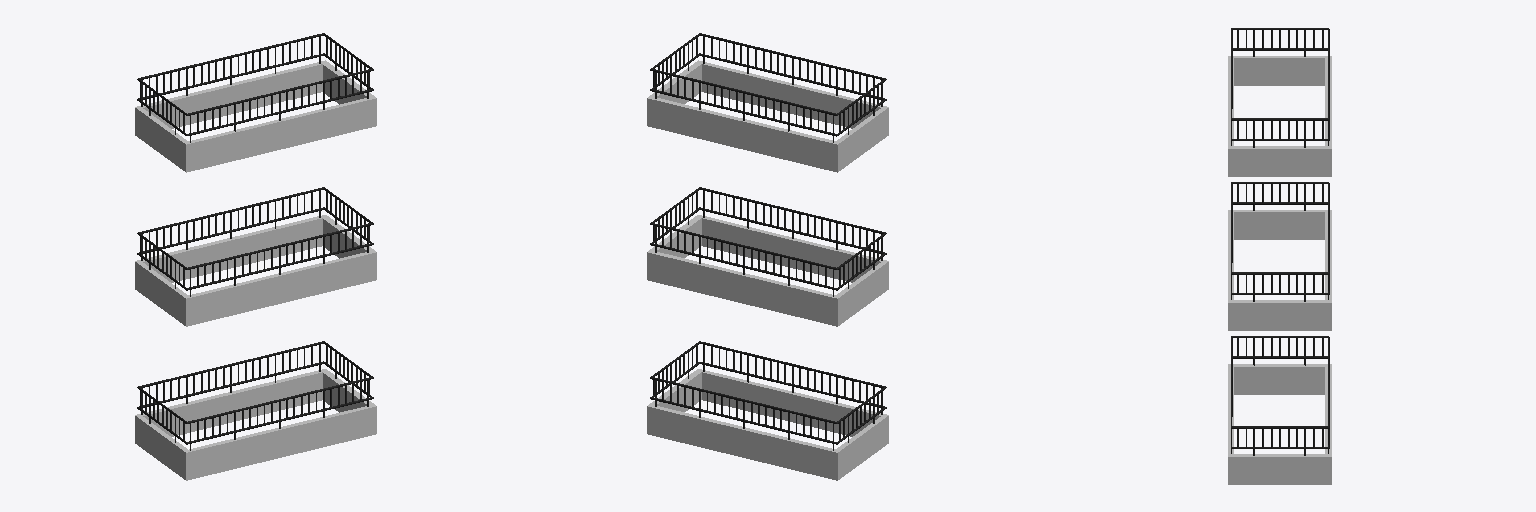
Rendered from balcones_6.obj.
3 views of the same model, side by side, from view 1: azimuth 30°, elevation 25°; view 2: azimuth 150°, elevation 25°; view 3: azimuth 270°, elevation 25° (orthographic).
Visible parts, largest first — view 1: Borde_barrotes.001_Cube.008; view 2: Borde_barrotes.001_Cube.008; view 3: Borde_barrotes.001_Cube.008.
Part boxes in pixels (x1,y1,x2,y2): Borde_barrotes.001_Cube.008: (135, 33, 376, 480); Borde_barrotes.001_Cube.008: (647, 33, 888, 480); Borde_barrotes.001_Cube.008: (1228, 28, 1331, 484).
Size of the model in its own units: 7.14 by 13.05 by 3.33.